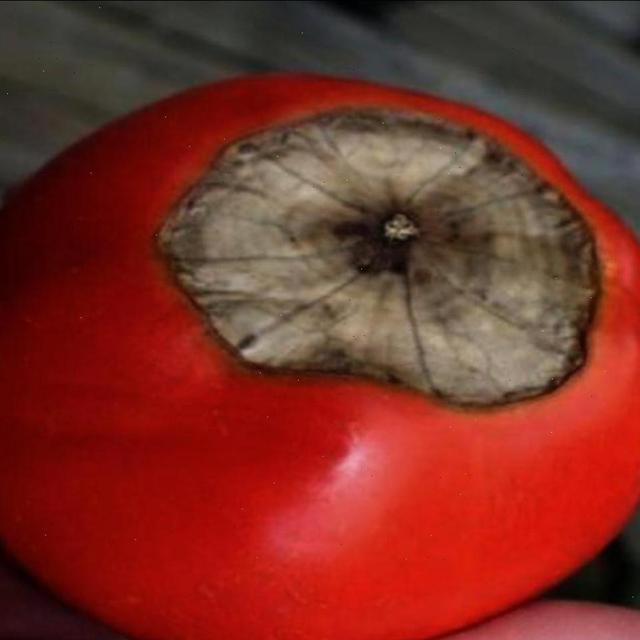Blossom End Rot Fruit: (84, 65, 405, 278)
